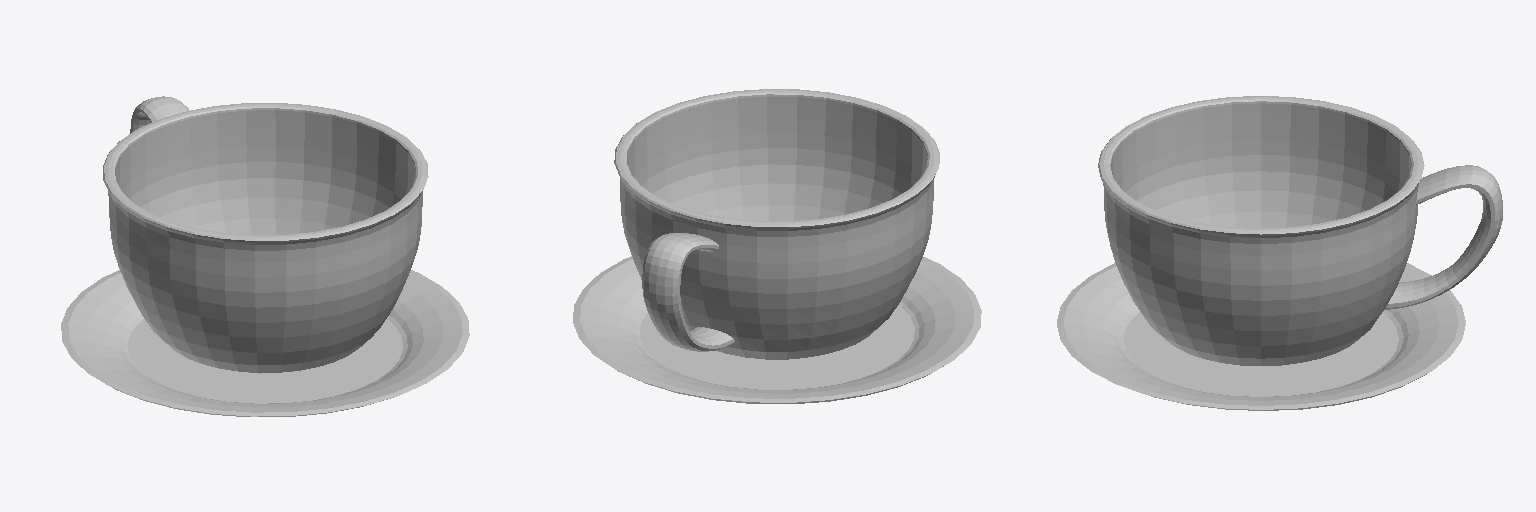
The model's file is coffee.obj.
3 renders of one model, left to right at view 1: azimuth 30°, elevation 25°; view 2: azimuth 150°, elevation 25°; view 3: azimuth 270°, elevation 25°, orthographic.
Visible parts, largest first — view 1: Cube; view 2: Cube; view 3: Cube.
Part boxes in pixels (left/top/right/bottom): Cube: left=61, top=96, right=469, bottom=416; Cube: left=573, top=89, right=981, bottom=403; Cube: left=1057, top=96, right=1502, bottom=410.
Bounding box in the file's own units: 0.3552 × 0.1768 × 0.3874.